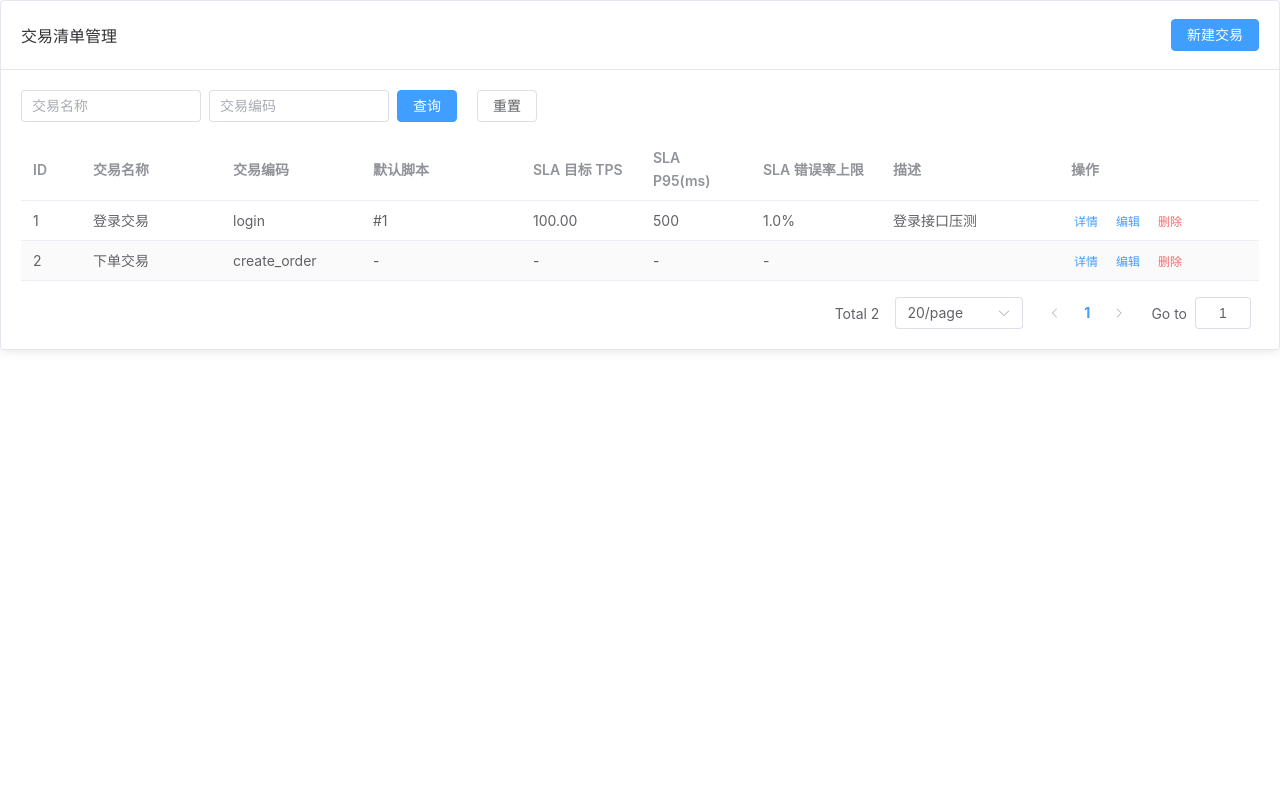
TransactionList.vue › 详情按钮打开详情弹窗展示交易信息
Click the button "详情" in the row of "登录交易": (1086, 222) [1071,213,1101,231]
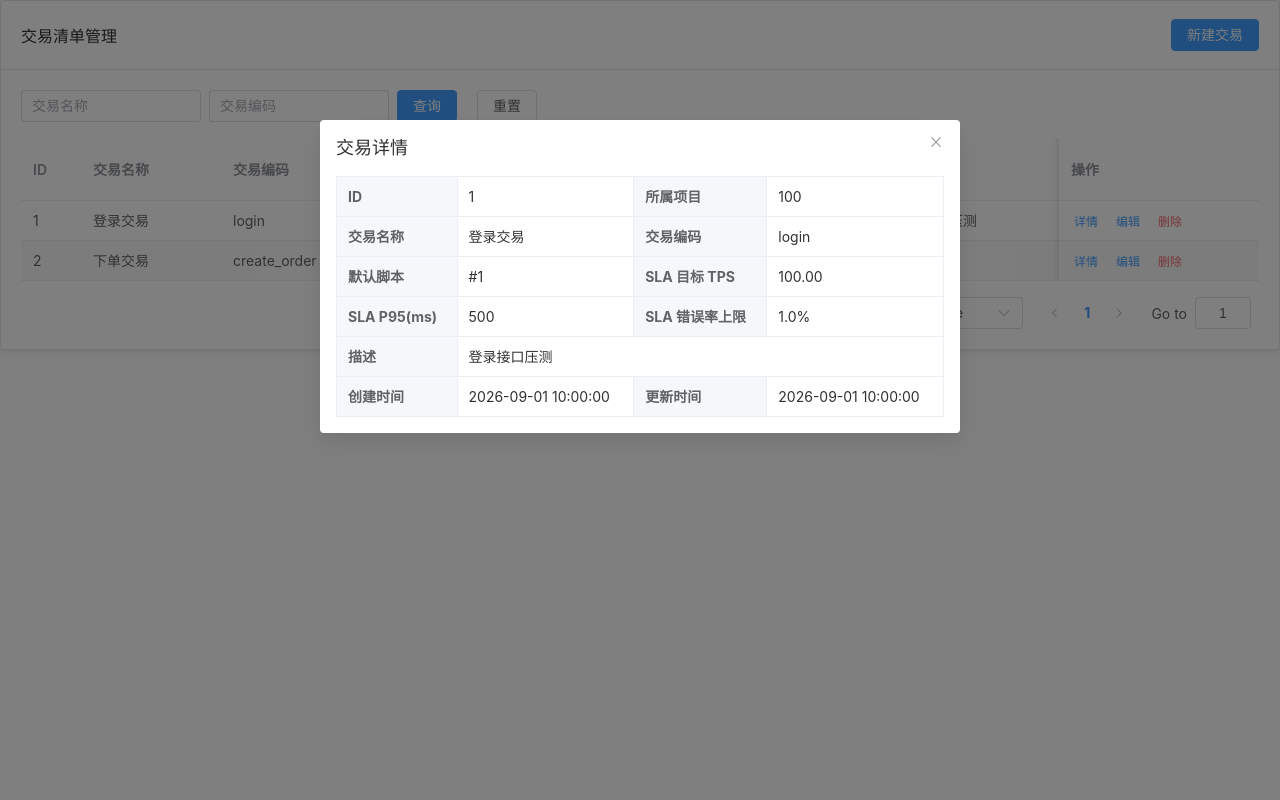
Expected: the text "登录交易" is shown, [93,212,149,229]
Expected: the text "交易详情" is shown, [336,137,408,158]
